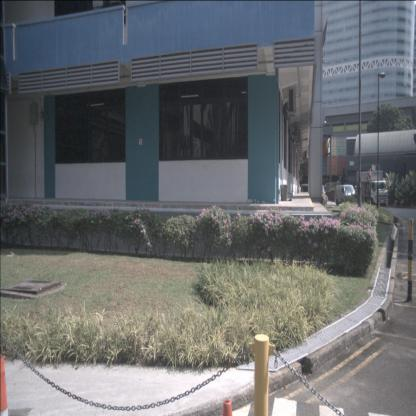movable_object-trafficcone: (0, 356, 9, 415), (386, 199, 388, 208), (378, 200, 380, 209), (369, 199, 371, 208)
vehicle-car: (334, 185, 356, 207)
vehicle-truck: (356, 172, 388, 207)
